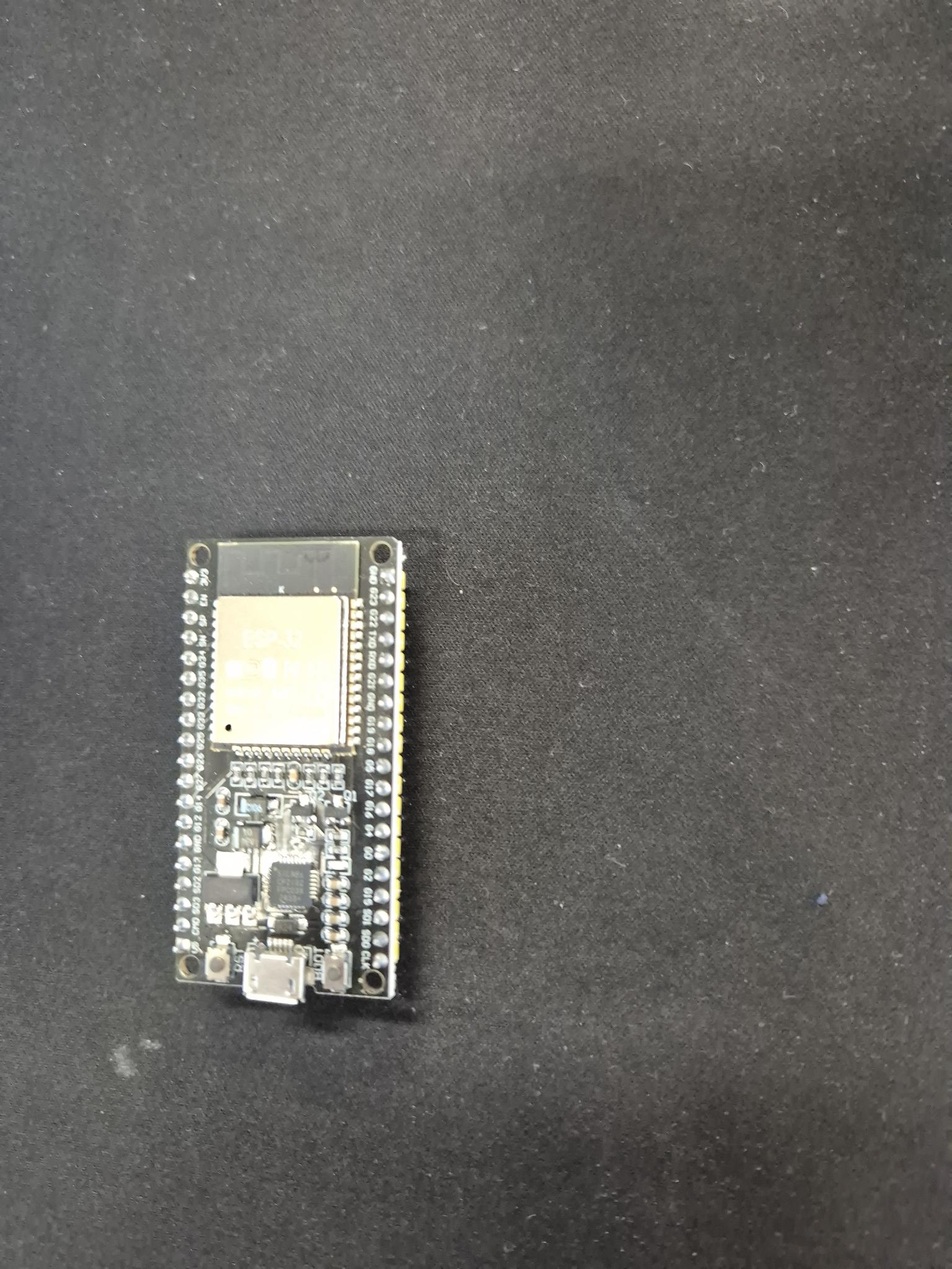esp32-dev: (175, 537, 404, 1003)
